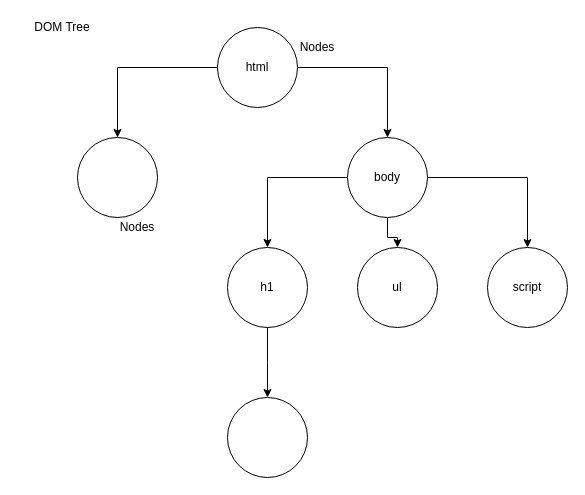
This 585x495 diagram has some shape labels left out. Here are the shapes that lost their labels. From the top down, the centre of each, then its label:
At (117,177): "head".
At (267,437): "textNode".
